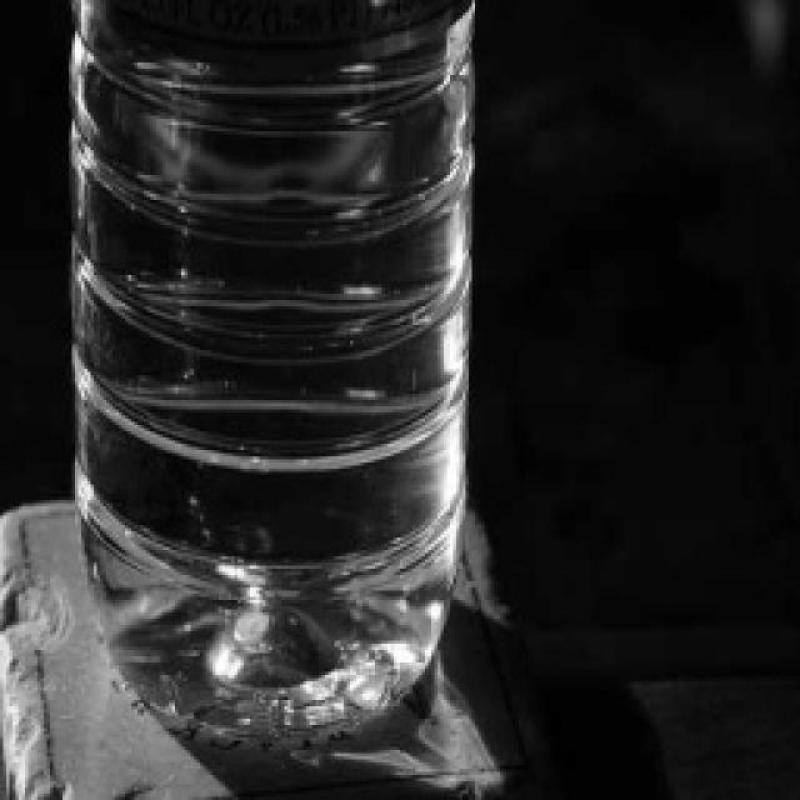botella: (69, 0, 479, 744)
